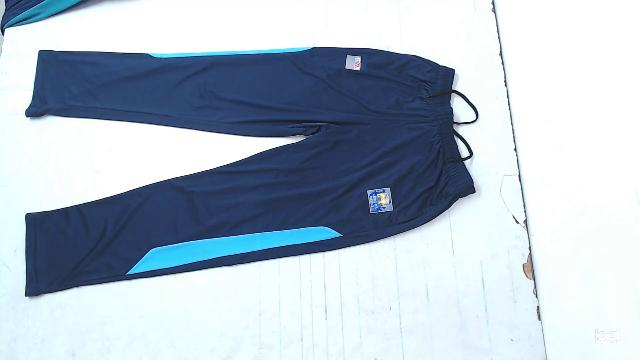new-garment: (25, 47, 475, 296)
